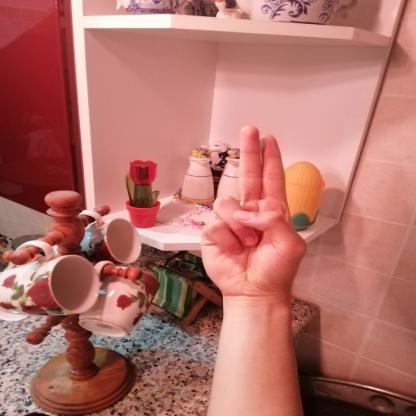TA: (182, 115, 322, 305)
